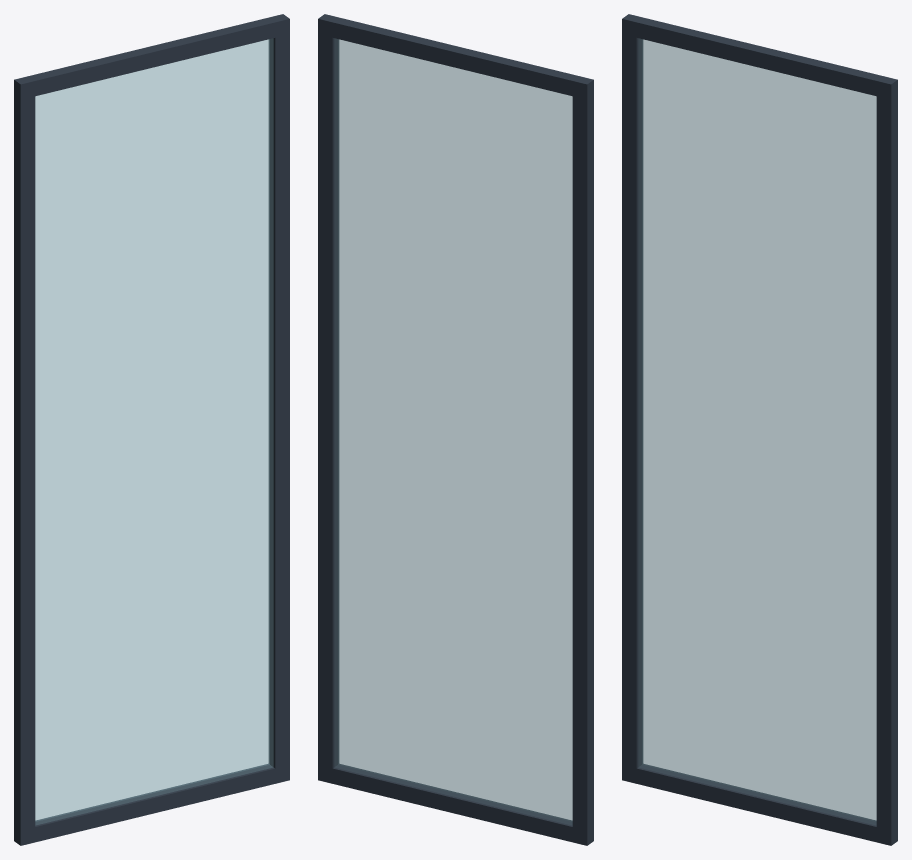
File: SM_Buildings_Skyscraper_01_Door_L.fbx
3 views of the same model, side by side, from view 1: azimuth 30°, elevation 25°; view 2: azimuth 150°, elevation 25°; view 3: azimuth 330°, elevation 25° (orthographic).
Parts seen in each view (by area): view 1: SM_Buildings_Skyscraper_01_Door_L; view 2: SM_Buildings_Skyscraper_01_Door_L; view 3: SM_Buildings_Skyscraper_01_Door_L.
Boxes of the visible parts, box(x1,y1,x2,y2) form: SM_Buildings_Skyscraper_01_Door_L: box(14, 14, 289, 845); SM_Buildings_Skyscraper_01_Door_L: box(318, 14, 593, 845); SM_Buildings_Skyscraper_01_Door_L: box(622, 14, 897, 845).
Size of the model in its own units: 1.09 by 2.95 by 0.0463.
